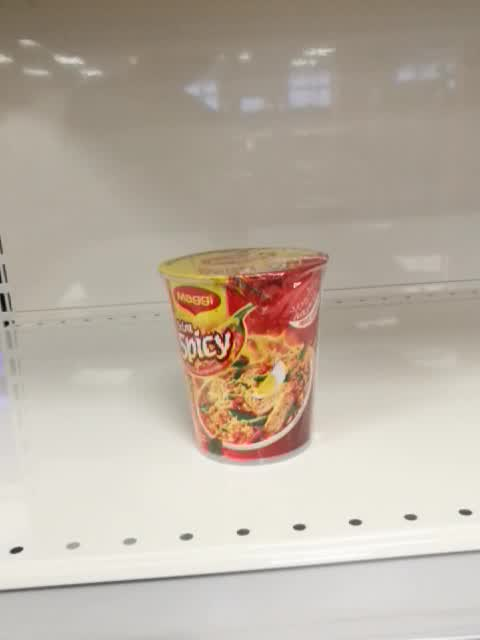maggi: (156, 246, 330, 468)
